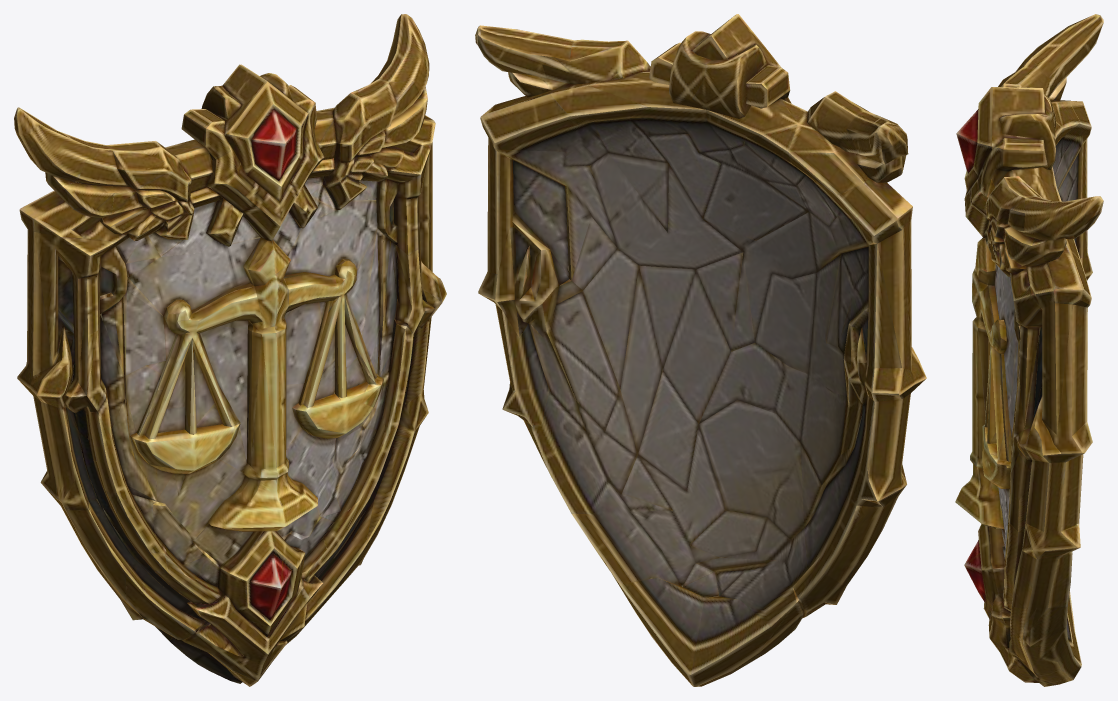
The model's file is verdict_shield.glb.
3 views of the same model, side by side, from view 1: azimuth 30°, elevation 25°; view 2: azimuth 150°, elevation 25°; view 3: azimuth 270°, elevation 25° (orthographic). The views are drawn at different scales.
Size of the model in its own units: 0.7904 by 1.14 by 0.2564.
Materials: 1 (1 with a texture image).
